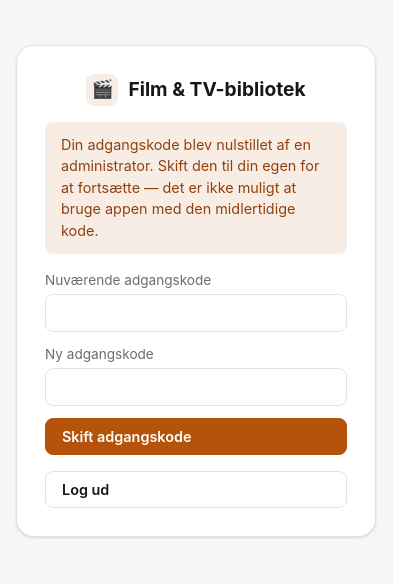
Scenario: ForcePasswordChange (feature #172) › viser backend-fejlbeskeden og giver ikke brugeren videre
The width and height of the screenshot is (393, 584).
In the password field labelled "Nuværende adgangskode": (196, 313) [45, 294, 347, 332], type "wrong-code"
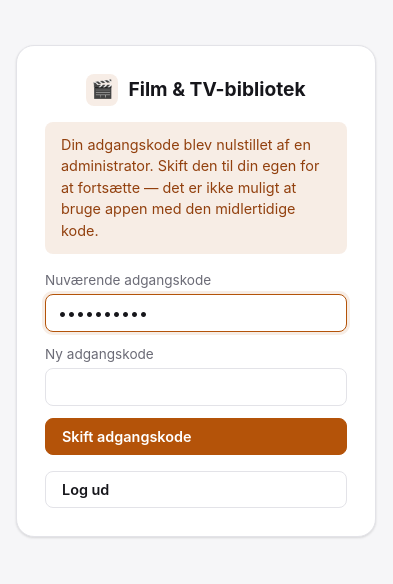
In the password field labelled "Ny adgangskode": (196, 387) [45, 368, 347, 406], type "myOwnNewPassword1"
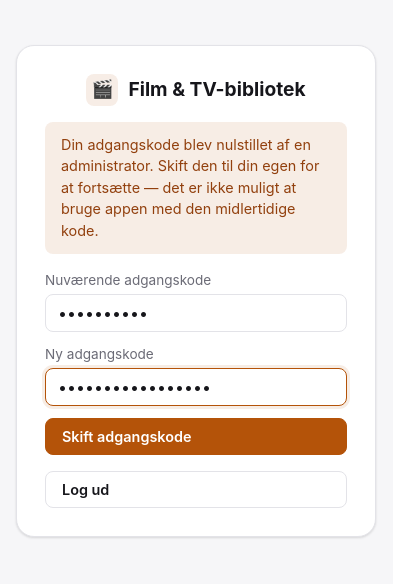
Click the button "Skift adgangskode": (127, 437) [45, 418, 347, 455]
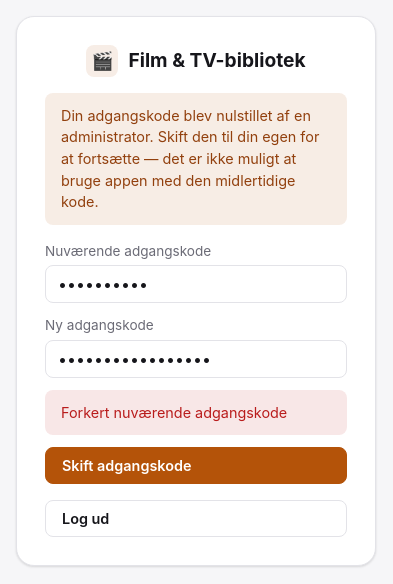
Check: the text "Forkert nuværende adgangskode" is shown, box [45, 390, 347, 435]
